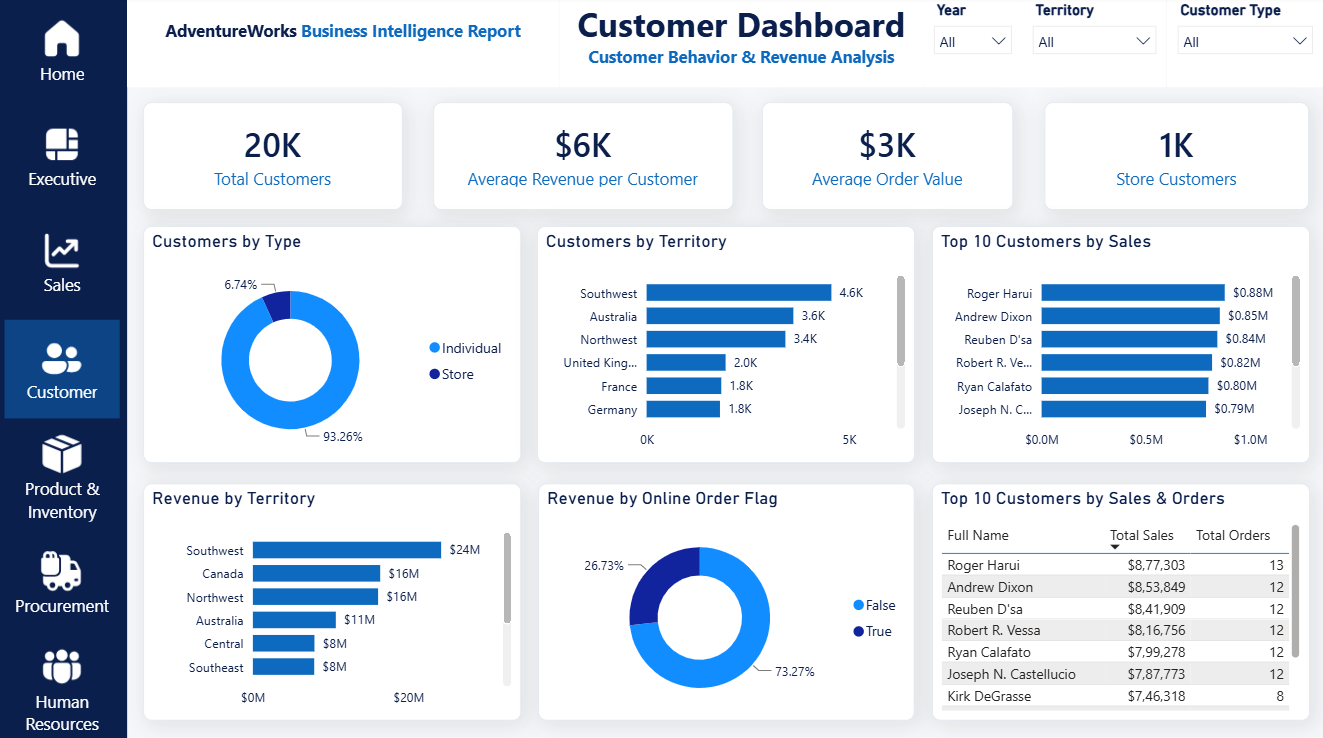

What the dashboard file says about the page in this screenshot:
{"tool":"powerbi","page":{"name":"Customer Dashboard","canvas":[1280,720],"ordinal":3},"visuals":[{"type":"cardVisual","title":"Total Customers","fields":{"Data":["Measures (2).Total Customers"]},"box":[140.6,102.7,250.7,103.9],"z":0},{"type":"cardVisual","title":"Average Revenue Per Customer","fields":{"Data":["Measures (2).Average Revenue per Customer"]},"box":[420.7,102.7,289.8,103.9],"z":1000},{"type":"cardVisual","title":"Average Order Value","fields":{"Data":["Measures (2).Average Order Value"]},"box":[738.6,102.7,242.1,103.9],"z":2000},{"type":"cardVisual","title":"Store Customers","fields":{"Data":["Measures (2).Store Customers"]},"box":[1011.3,102.7,255.6,103.9],"z":3000},{"type":"donutChart","title":"Customers by Type","fields":{"Category":["gold dim_customer.CustomerType"],"Y":["Measures (2).Total Customers"]},"box":[140.6,222.6,364.4,228.7],"z":4000},{"type":"barChart","title":"Customers by Territory","fields":{"Category":["gold dim_sales_territory.TerritoryName"],"Y":["Count(gold fact_sales.CustomerID)"]},"box":[520.9,222.6,364.4,228.7],"z":5000},{"type":"barChart","title":"Top 10 Customers by Sales","fields":{"Y":["Measures (2).Total Sales"],"Category":["gold dim_customer.FullName"]},"box":[902.5,222.6,364.4,228.7],"z":6000},{"type":"barChart","title":"Revenue by Territory","fields":{"Category":["gold dim_sales_territory.TerritoryName"],"Y":["Measures (2).Total Sales"]},"box":[140.6,470.8,364.4,228.7],"z":7000},{"type":"donutChart","title":"Revenue by Online Order Flag","fields":{"Y":["Measures (2).Total Sales"],"Category":["gold fact_sales.OnlineOrderFlag"]},"box":[522.1,470.8,363.2,228.7],"z":8000},{"type":"tableEx","title":"Top 10 Customers by Sales & Orders","fields":{"Values":["gold dim_customer.FullName","Measures (2).Total Sales","Measures (2).Total Orders"]},"box":[902.5,470.8,364.4,228.7],"z":9000},{"type":"slicer","fields":{"Values":["gold dim_sales_territory.TerritoryName"]},"box":[989.3,0,139.4,88],"z":10000},{"type":"slicer","fields":{"Values":["gold dim_customer.CustomerType"]},"box":[1129.2,0,150.8,88.1],"z":11000},{"type":"textbox","box":[542.9,0,351,88],"z":12000},{"type":"shape","box":[0,0,126,720],"z":13000},{"type":"actionButton","box":[7.3,4.9,111.3,95.4],"z":14000},{"type":"actionButton","box":[7.3,106.4,111.3,95.4],"z":15000},{"type":"actionButton","box":[7.3,209.1,111.3,95.4],"z":16000},{"type":"actionButton","box":[7.3,313,111.3,95.4],"z":17000},{"type":"actionButton","box":[7.3,415.8,111.3,95.4],"z":18000},{"type":"actionButton","box":[7.3,518.5,111.3,95.4],"z":19000},{"type":"actionButton","box":[7.3,621.2,111.3,95.4],"z":20000},{"type":"slicer","fields":{"Values":["gold fact_sales.OrderYear"]},"box":[894,0,95.3,88.1],"z":21000},{"type":"textbox","box":[126,0,417,88],"z":22000}]}

Visuals, with their boxes on the page's 1280x720 design canvas (x1, y1, x2, y2). These are canvas units, not pixel positions in the 1323x738 screenshot, which may show the page scaled, cropped or inside an application window:
"Total Customers" cardVisual: {"x1": 141, "y1": 103, "x2": 391, "y2": 207}
"Average Revenue Per Customer" cardVisual: {"x1": 421, "y1": 103, "x2": 710, "y2": 207}
"Average Order Value" cardVisual: {"x1": 739, "y1": 103, "x2": 981, "y2": 207}
"Store Customers" cardVisual: {"x1": 1011, "y1": 103, "x2": 1267, "y2": 207}
"Customers by Type" donutChart: {"x1": 141, "y1": 223, "x2": 505, "y2": 451}
"Customers by Territory" barChart: {"x1": 521, "y1": 223, "x2": 885, "y2": 451}
"Top 10 Customers by Sales" barChart: {"x1": 902, "y1": 223, "x2": 1267, "y2": 451}
"Revenue by Territory" barChart: {"x1": 141, "y1": 471, "x2": 505, "y2": 700}
"Revenue by Online Order Flag" donutChart: {"x1": 522, "y1": 471, "x2": 885, "y2": 700}
"Top 10 Customers by Sales & Orders" tableEx: {"x1": 902, "y1": 471, "x2": 1267, "y2": 700}
slicer - gold dim_sales_territory.TerritoryName: {"x1": 989, "y1": 0, "x2": 1129, "y2": 88}
slicer - gold dim_customer.CustomerType: {"x1": 1129, "y1": 0, "x2": 1280, "y2": 88}
textbox: {"x1": 543, "y1": 0, "x2": 894, "y2": 88}
shape: {"x1": 0, "y1": 0, "x2": 126, "y2": 720}
actionButton: {"x1": 7, "y1": 5, "x2": 119, "y2": 100}
actionButton: {"x1": 7, "y1": 106, "x2": 119, "y2": 202}
actionButton: {"x1": 7, "y1": 209, "x2": 119, "y2": 304}
actionButton: {"x1": 7, "y1": 313, "x2": 119, "y2": 408}
actionButton: {"x1": 7, "y1": 416, "x2": 119, "y2": 511}
actionButton: {"x1": 7, "y1": 518, "x2": 119, "y2": 614}
actionButton: {"x1": 7, "y1": 621, "x2": 119, "y2": 717}
slicer - gold fact_sales.OrderYear: {"x1": 894, "y1": 0, "x2": 989, "y2": 88}
textbox: {"x1": 126, "y1": 0, "x2": 543, "y2": 88}
